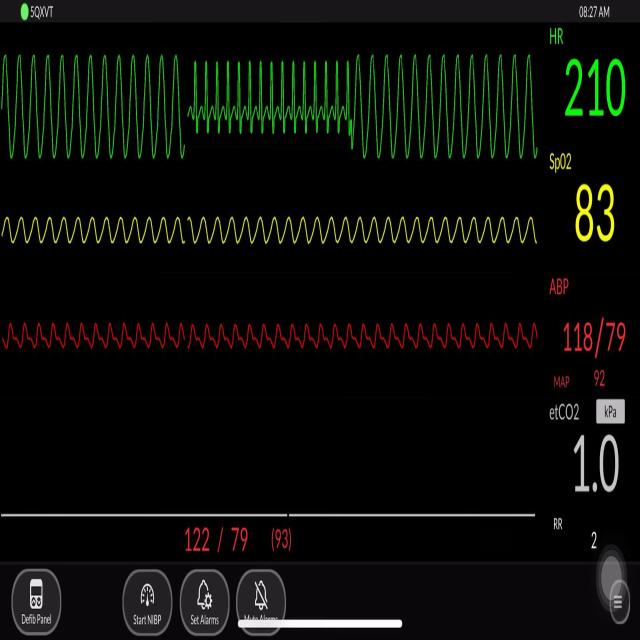danger: (7, 32, 190, 176), (357, 36, 545, 173), (196, 43, 352, 144)
